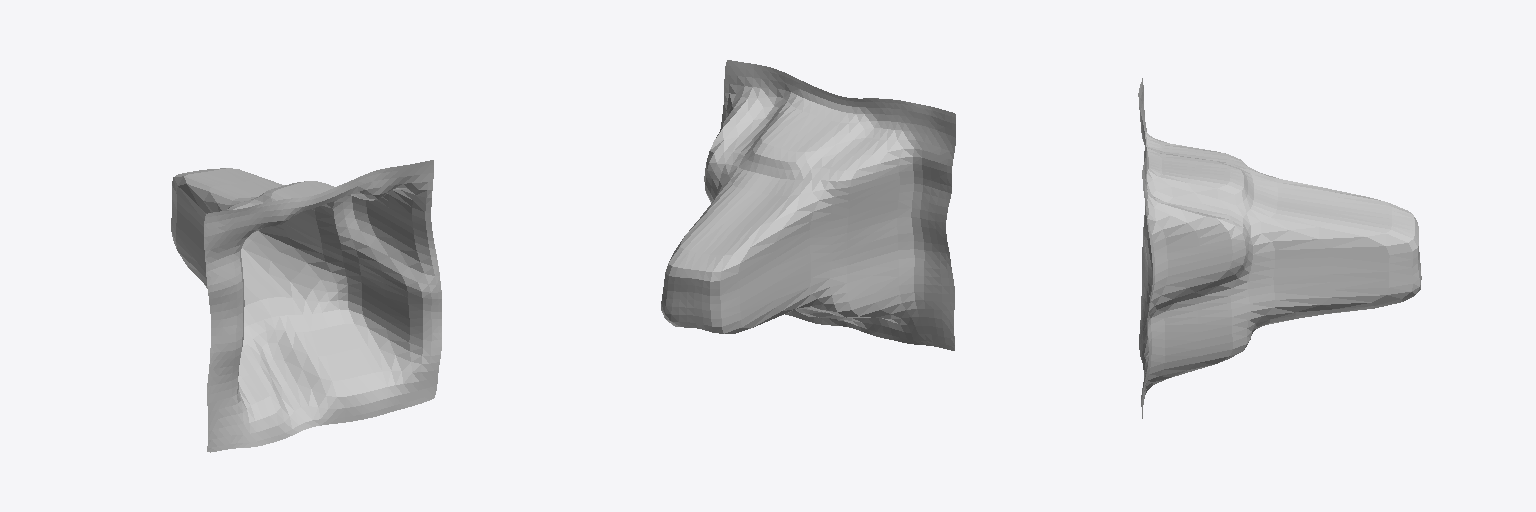
File: pool4.obj
3 renders of one model, left to right at view 1: azimuth 30°, elevation 25°; view 2: azimuth 150°, elevation 25°; view 3: azimuth 270°, elevation 25°, orthographic.
Bounding box in the file's own units: 40.44 × 39.37 × 41.26.